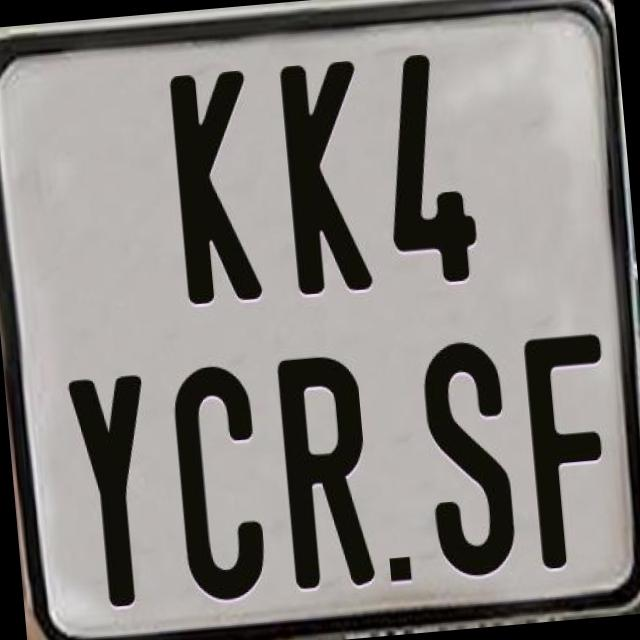4: (372, 46, 482, 288)
C: (170, 363, 271, 612)
F: (518, 332, 622, 575)
K: (279, 58, 381, 293), (168, 70, 264, 308)
R: (274, 350, 376, 590)
S: (416, 336, 518, 581)
Y: (62, 370, 160, 614)
